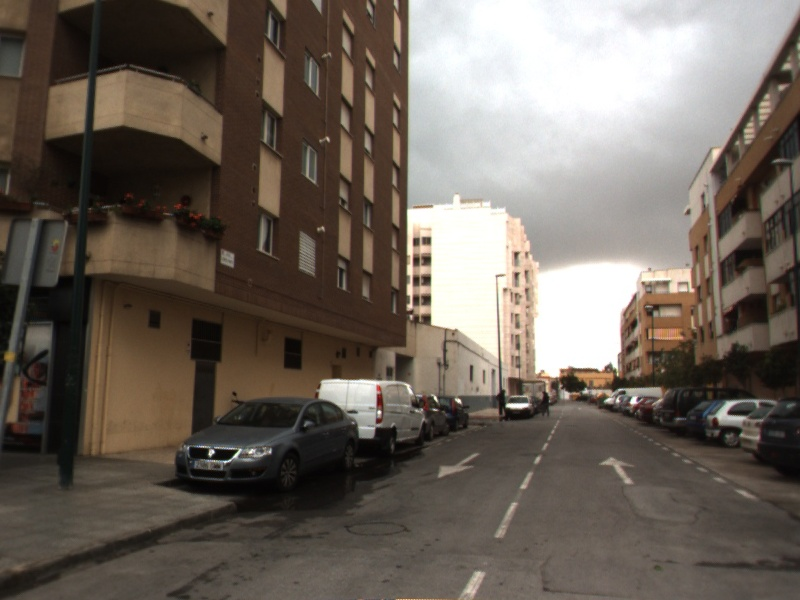STRAIGHT: (596, 455, 638, 486)
